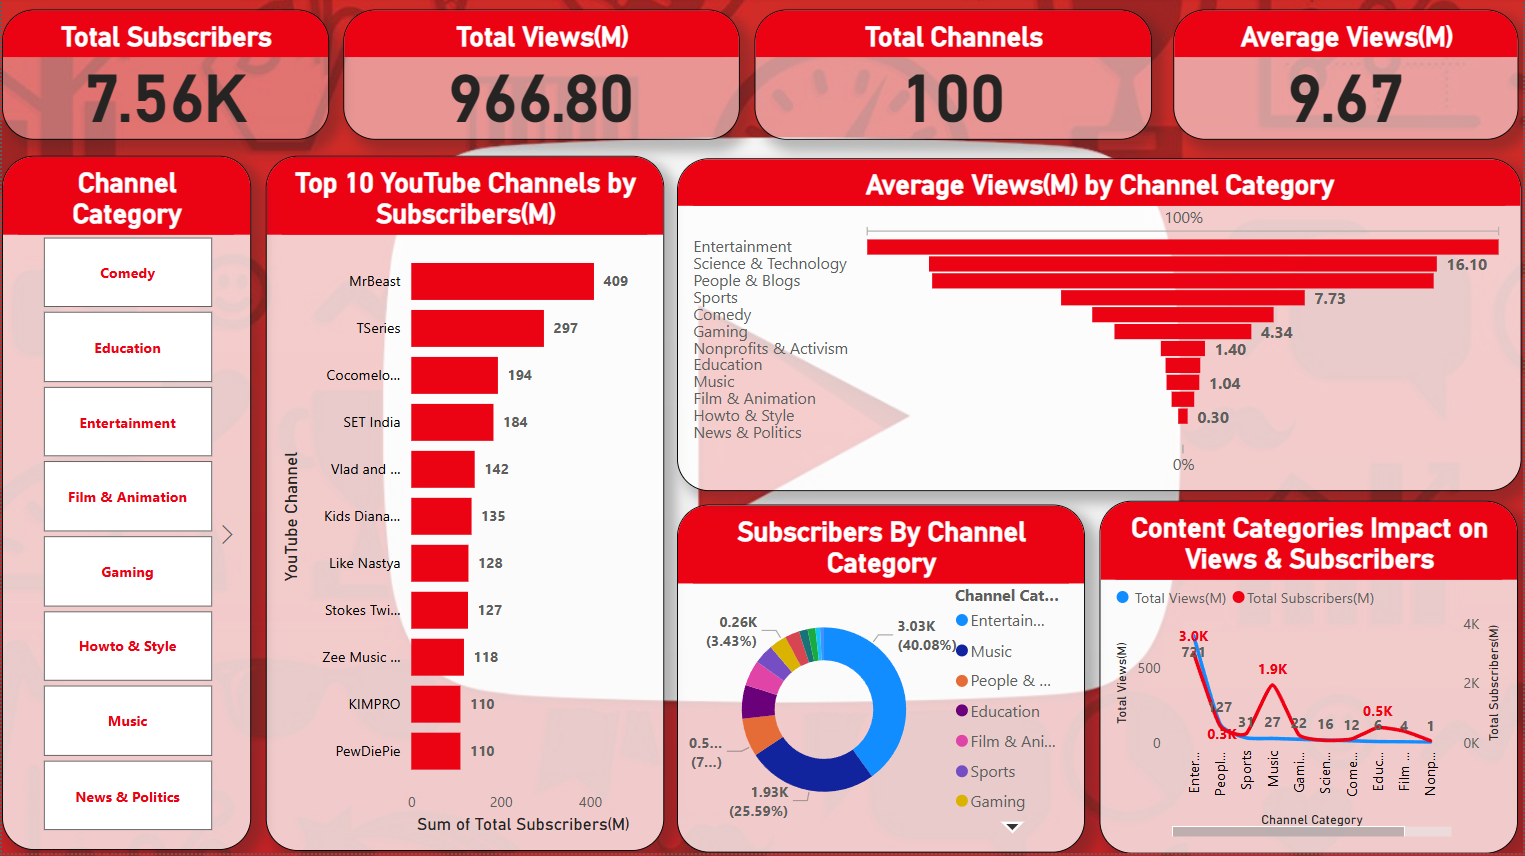

The page's visual inventory and layout, read from the dashboard file:
{"tool":"powerbi","page":{"name":"Dashboard","canvas":[1280,720],"ordinal":5},"visuals":[{"type":"barChart","title":"Top 10 YouTube Channels by Subscribers(M)","fields":{"Category":["Top_100_youtube.YouTube Channel"],"Y":["Top_100_youtube.Total Subscribers(M)"]},"box":[222.1,133.7,334.9,584.9],"z":1000},{"type":"donutChart","title":"Subscribers By Channel Category","fields":{"Category":["Top_100_youtube.Channel Category"],"Y":["Top_100_youtube.Total Subscribers(M)"]},"box":[567.4,426.7,343,293],"z":2000},{"type":"card","title":"Total Views(M)","fields":{"Values":["Table.Total Views"]},"box":[287,10.5,333.3,109.3],"z":3000},{"type":"card","title":"Total Subscribers","fields":{"Values":["Table.Total Subscribers"]},"box":[0,10.5,275.5,109.3],"z":4000},{"type":"slicer","title":" Channel Category","fields":{"Values":["Top_100_youtube.Channel Category"]},"box":[0,133.7,209.3,583.7],"z":5000},{"type":"card","title":"Total Channels","fields":{"Values":["Table.Channel Count"]},"box":[632.9,10.5,334.3,109.3],"z":6000},{"type":"funnel","title":"Average Views(M) by Channel Category","fields":{"Category":["Top_100_youtube.Channel Category"],"Y":["Table.Average Views"]},"box":[567.4,136,710.5,280.2],"z":7000},{"type":"card","title":"Average Views(M)","fields":{"Values":["Table.Average Views"]},"box":[985.2,10.5,290.2,109.3],"z":8000},{"type":"lineChart","title":"Content Categories Impact on Views & Subscribers","fields":{"Category":["Top_100_youtube.Channel Category"],"Y":["Top_100_youtube.Total Views(M)"],"Y2":["Top_100_youtube.Total Subscribers(M)"]},"box":[923.3,423.3,352.3,296.5],"z":9000}]}

Visuals, with their boxes in screenshot pixels (x1, y1, x2, y2), scaled from the page's 1280x720 canvas onto the 1525x856 screenshot:
"Top 10 YouTube Channels by Subscribers(M)" barChart: [x1=265, y1=159, x2=664, y2=854]
"Subscribers By Channel Category" donutChart: [x1=676, y1=507, x2=1085, y2=855]
"Total Views(M)" card: [x1=342, y1=12, x2=739, y2=142]
"Total Subscribers" card: [x1=0, y1=12, x2=328, y2=142]
" Channel Category" slicer: [x1=0, y1=159, x2=249, y2=853]
"Total Channels" card: [x1=754, y1=12, x2=1152, y2=142]
"Average Views(M) by Channel Category" funnel: [x1=676, y1=162, x2=1522, y2=495]
"Average Views(M)" card: [x1=1174, y1=12, x2=1520, y2=142]
"Content Categories Impact on Views & Subscribers" lineChart: [x1=1100, y1=503, x2=1520, y2=855]
